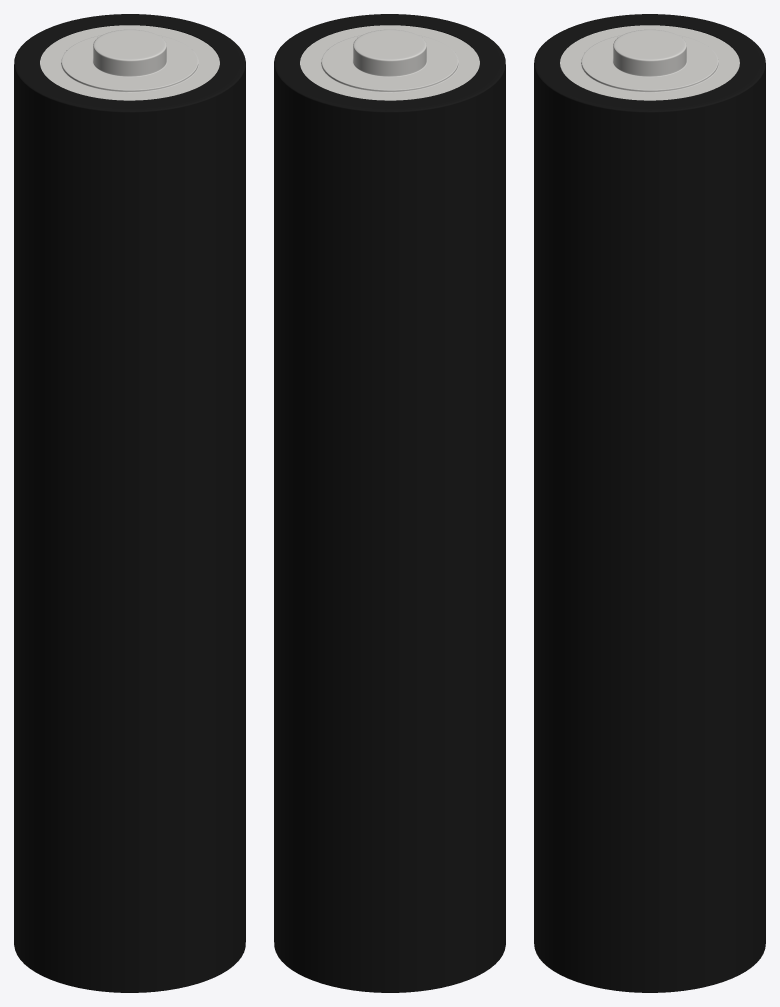
Rendered from AA_Battery.glb.
3 views of the same model, side by side, from view 1: azimuth 30°, elevation 25°; view 2: azimuth 150°, elevation 25°; view 3: azimuth 270°, elevation 25° (orthographic).
Visible parts, largest first — view 1: aaa_battery; view 2: aaa_battery; view 3: aaa_battery.
Boxes of the visible parts, bbox=[...] form: aaa_battery: bbox=[14, 14, 245, 992]; aaa_battery: bbox=[274, 14, 505, 992]; aaa_battery: bbox=[534, 14, 765, 992].
Bounding box in the file's own units: 0.01 × 0.043 × 0.01.
Materials: 1 (1 with a texture image).
